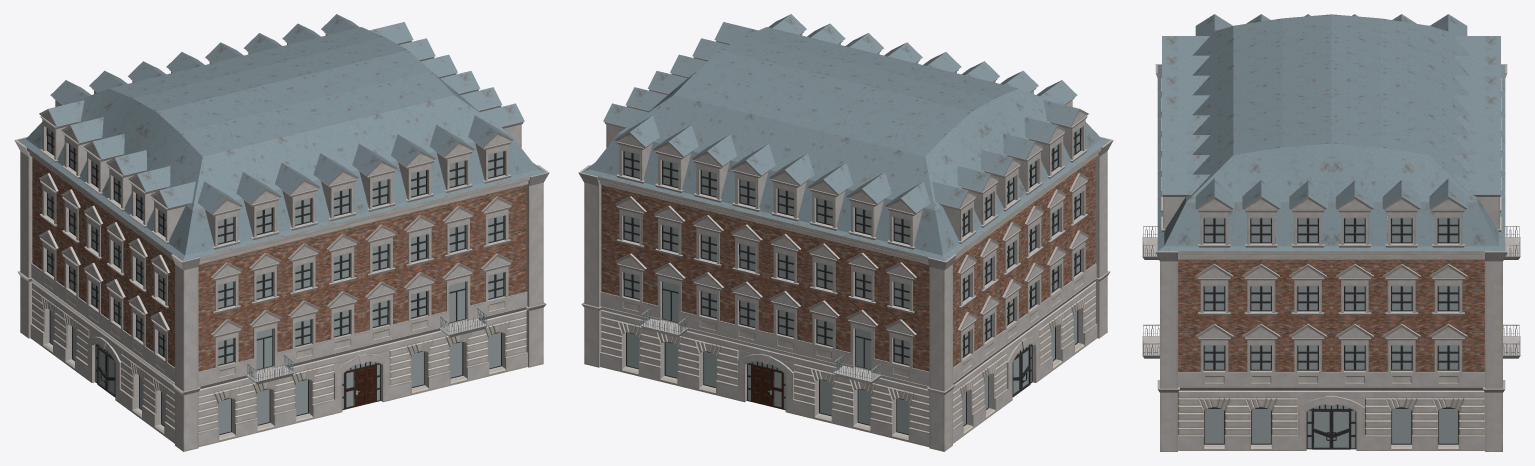
File: Hause2.fbx
3 views of the same model, side by side, from view 1: azimuth 30°, elevation 25°; view 2: azimuth 150°, elevation 25°; view 3: azimuth 270°, elevation 25° (orthographic). The views are drawn at different scales.
Parts seen in each view (by area): view 1: Hause2__1_; view 2: Hause2__1_; view 3: Hause2__1_.
Part boxes in pixels (x1=…): Hause2__1_: x1=14, y1=14, x2=549, y2=451; Hause2__1_: x1=578, y1=14, x2=1113, y2=451; Hause2__1_: x1=1142, y1=14, x2=1520, y2=451.
Size of the model in its own units: 9488 by 6585 by 8042.
1 material, 1 textured.
